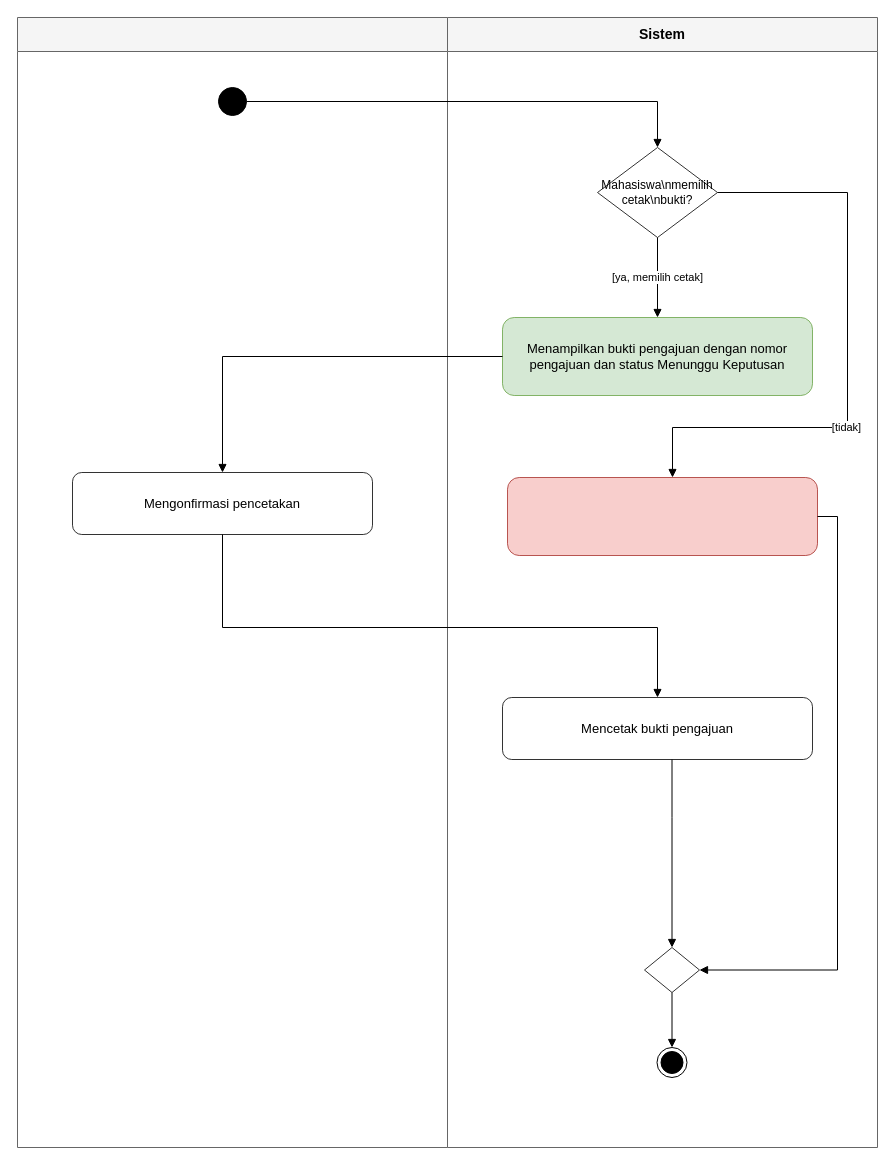
Image size: 895x1165. Some labels were removed from this diagram. The shapes that lost their labels are listed below. From the top down, each one's box as (x1, y1, x2, y2) in pixels, then its label:
(506, 476, 818, 556): Menutup konfirmasi tanpa mencetak bukti dan pengajuan tetap tersimpan
(16, 16, 448, 1148): Petugas Laboratorium
